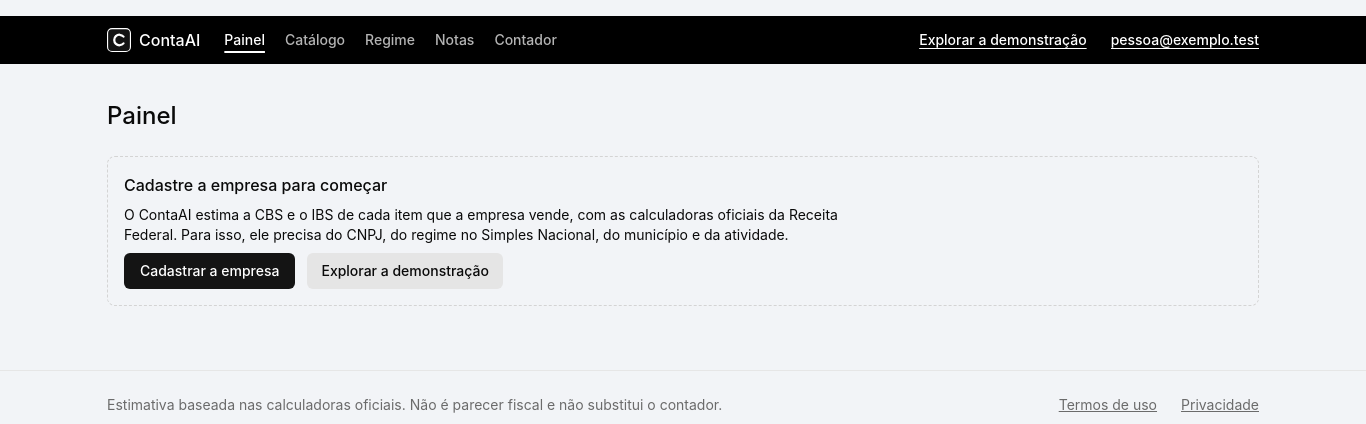
Test: menu da conta na barra › Sair que falha avisa que a sessão pode continuar aberta, e a conta segue na tela
The image size is (1366, 424).
(page scrolled)
Click the button "pessoa@exemplo.test".
click(1185, 40)  # box [1111, 22, 1259, 58]
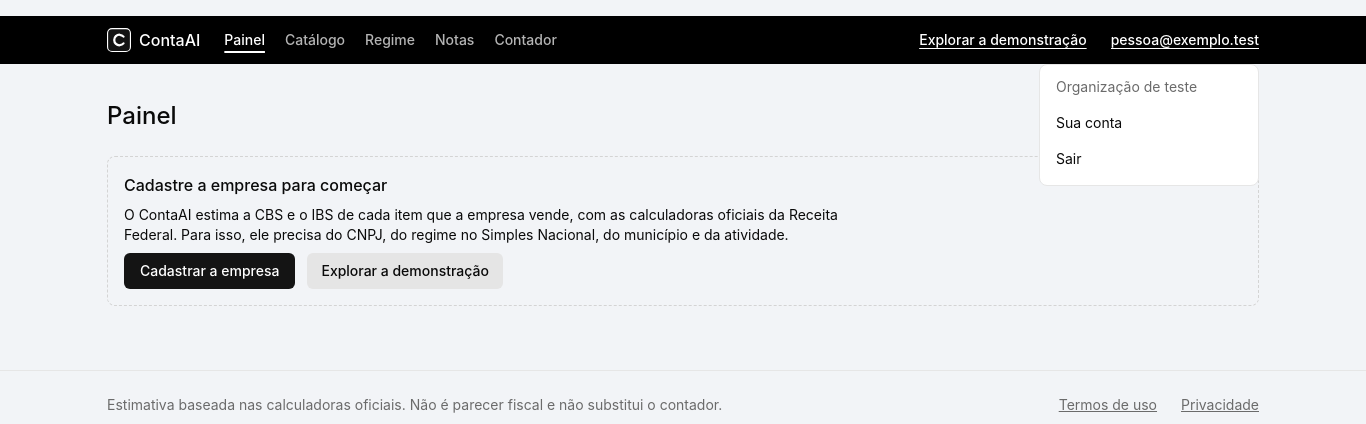
Click the button "Sair".
click(1149, 159)  # box [1048, 141, 1250, 177]
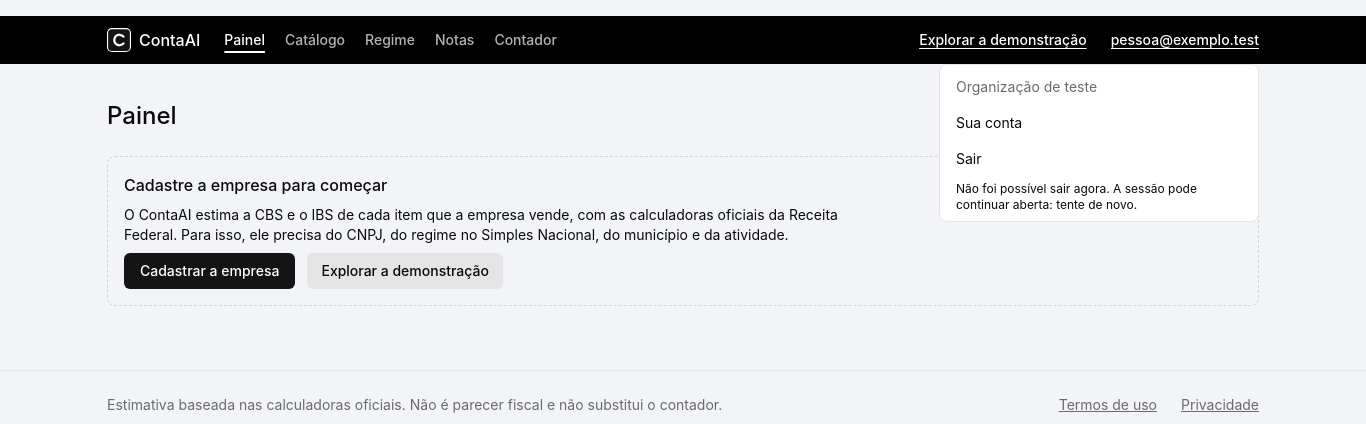
Expected: the text "Não foi possível sair agora. A sessão pode continuar aberta: tente de novo." is shown, [956, 181, 1197, 212]
